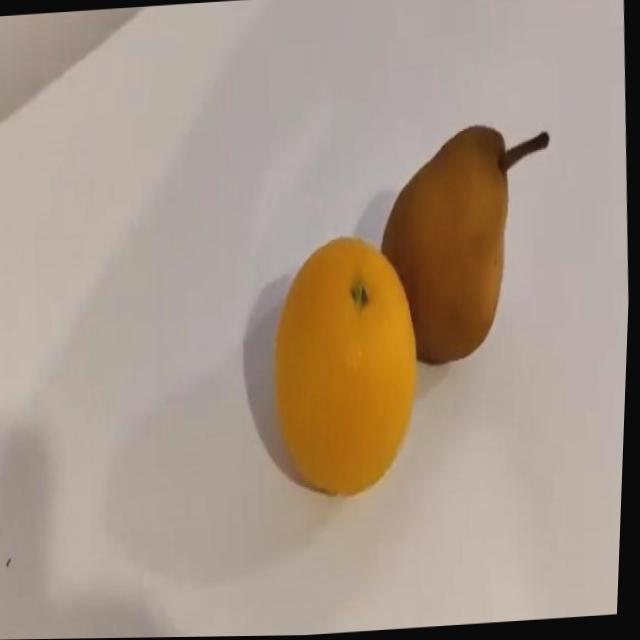Orange: (266, 233, 432, 504)
